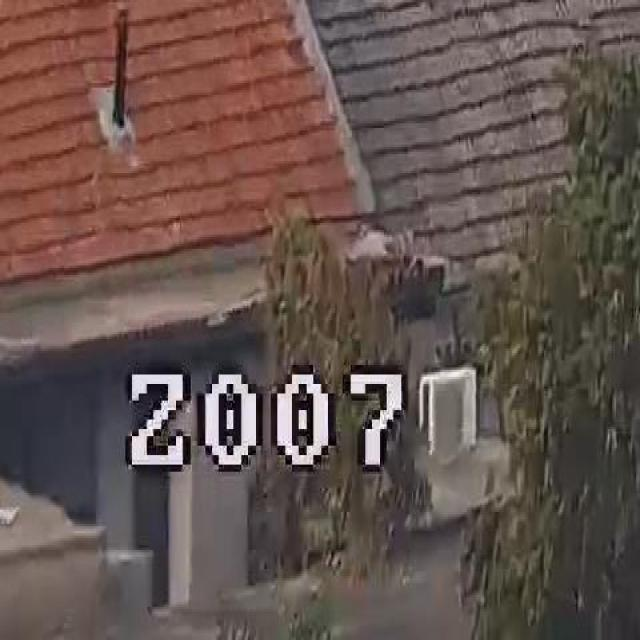other: (0, 8, 352, 206)
